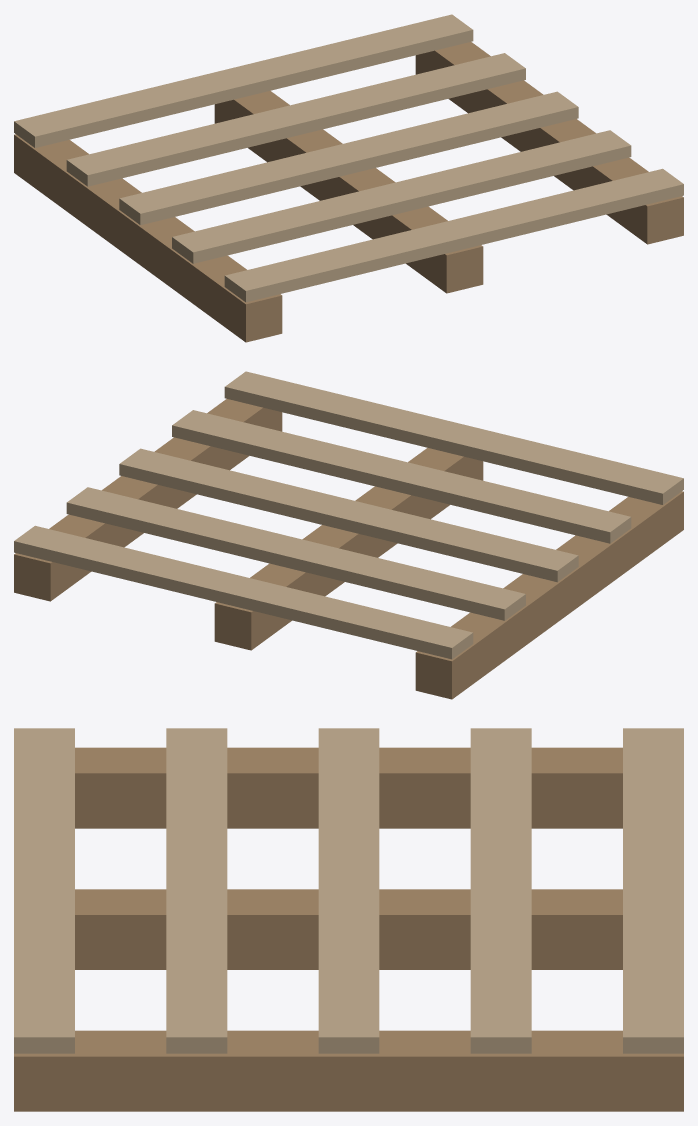
Rendered from Palet.glb.
The picture shows the model from 3 angles, top to bottom: view 1: azimuth 30°, elevation 25°; view 2: azimuth 150°, elevation 25°; view 3: azimuth 270°, elevation 25°; orthographic projection. The views are drawn at different scales.
Parts seen in each view (by area): view 1: Palet; view 2: Palet; view 3: Palet.
Boxes of the visible parts, box(x1,y1,x2,y2) form: Palet: box(14, 14, 683, 342); Palet: box(14, 371, 683, 699); Palet: box(14, 728, 683, 1111).
Bounding box in the file's own units: 1.2 × 0.135 × 1.1.
